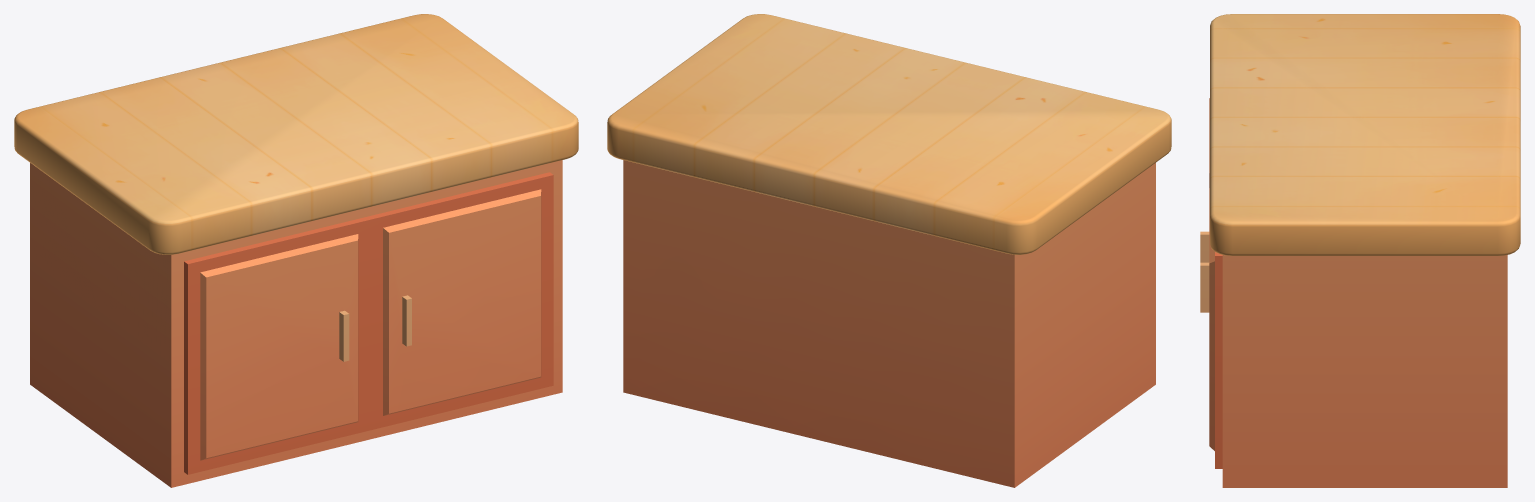
The model's file is table.fbx.
3 views of the same model, side by side, from view 1: azimuth 30°, elevation 25°; view 2: azimuth 150°, elevation 25°; view 3: azimuth 270°, elevation 25° (orthographic).
Parts seen in each view (by area): view 1: table; view 2: table; view 3: table.
Boxes of the visible parts, box(x1,y1,x2,y2) form: table: box(14, 14, 578, 487); table: box(607, 14, 1171, 487); table: box(1200, 14, 1520, 487).
Size of the model in its own units: 2028 by 1230 by 1303.
